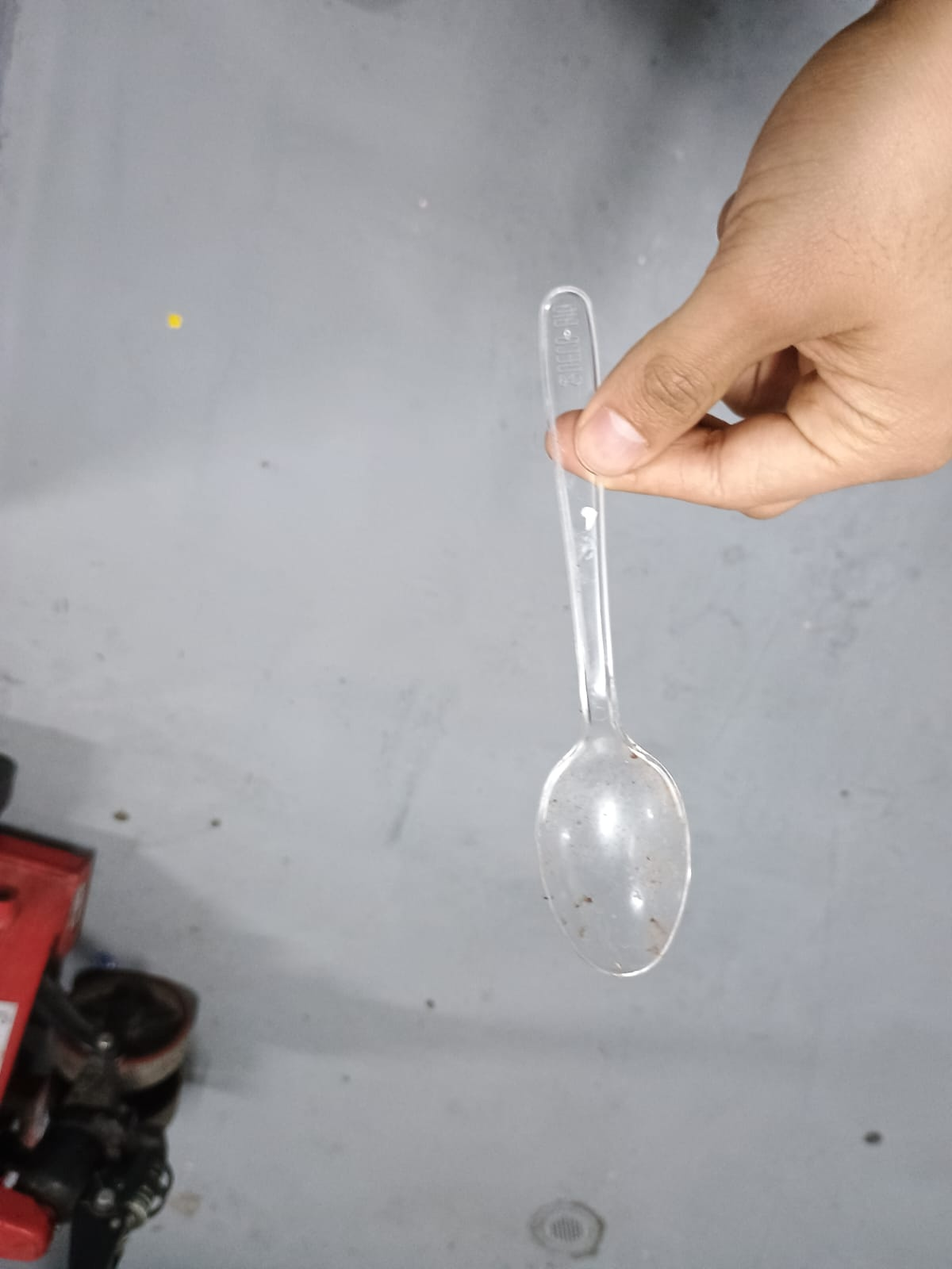Ordinario: (533, 285, 690, 977)
